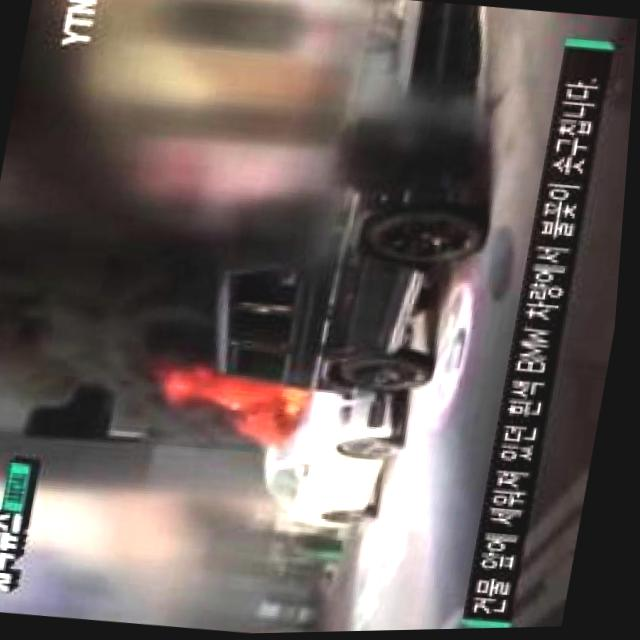Fire: (250, 380, 325, 436)
